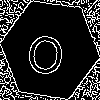O: (25, 25, 67, 76)
